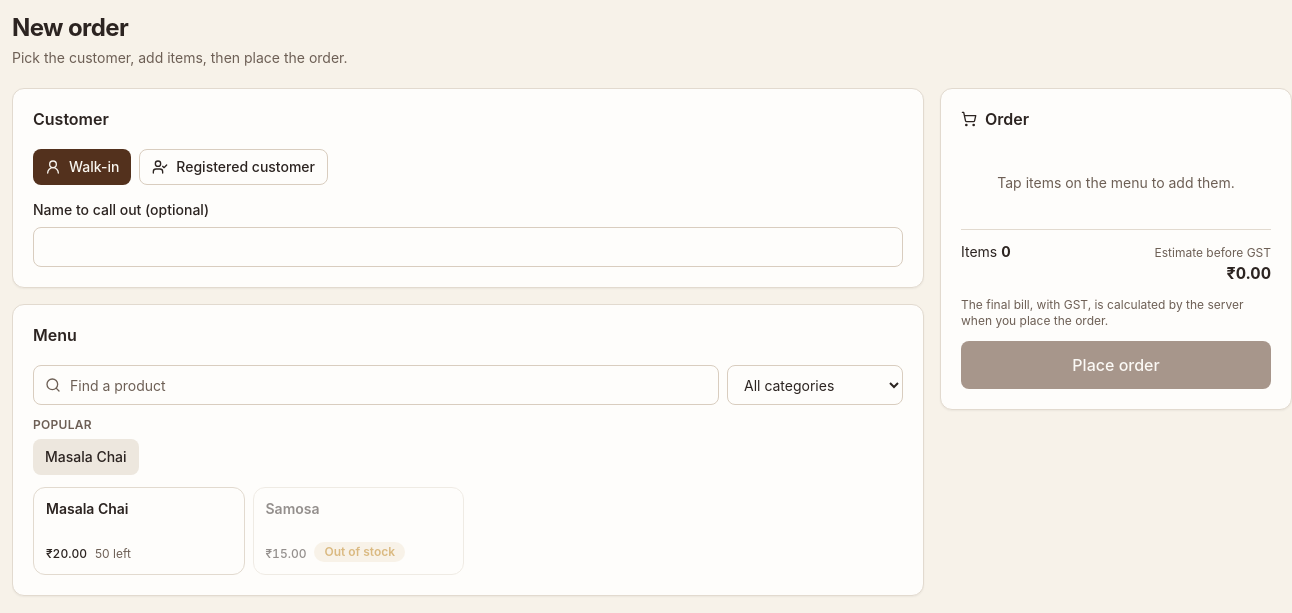
POS › offers popular items as one-tap shortcuts
Click the button with aria-label "Add Masala Chai, popular" at (86, 457), box [33,439,139,475]
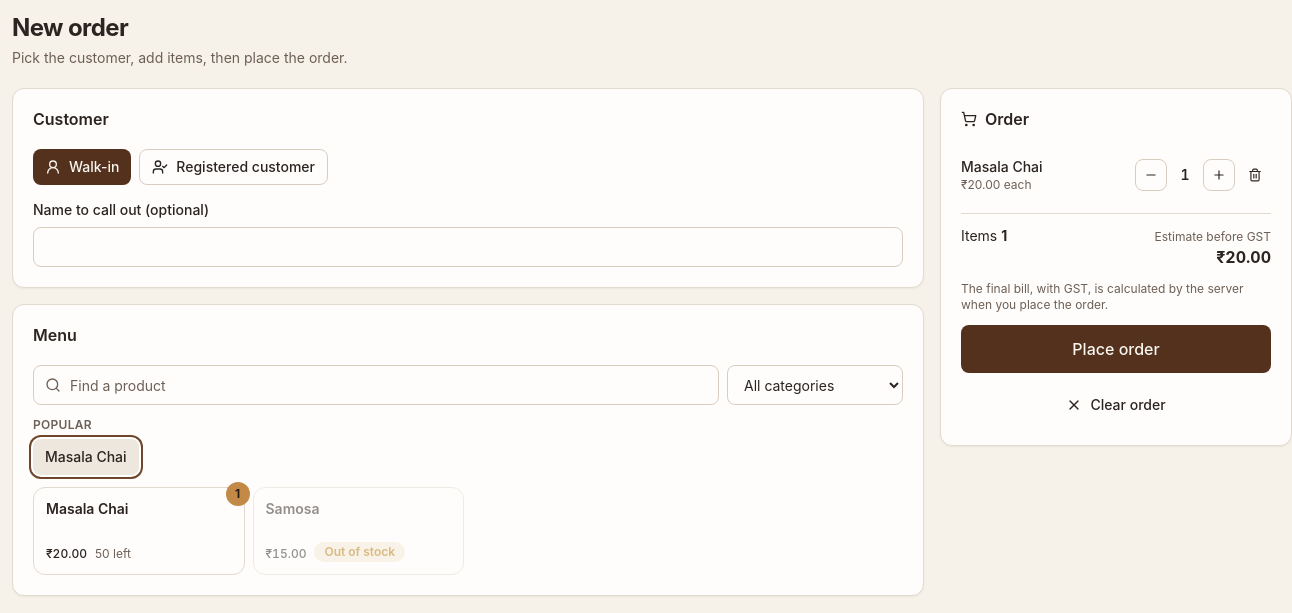
Now the text named "Masala Chai quantity" reads "1", box [1180,166,1190,183]
